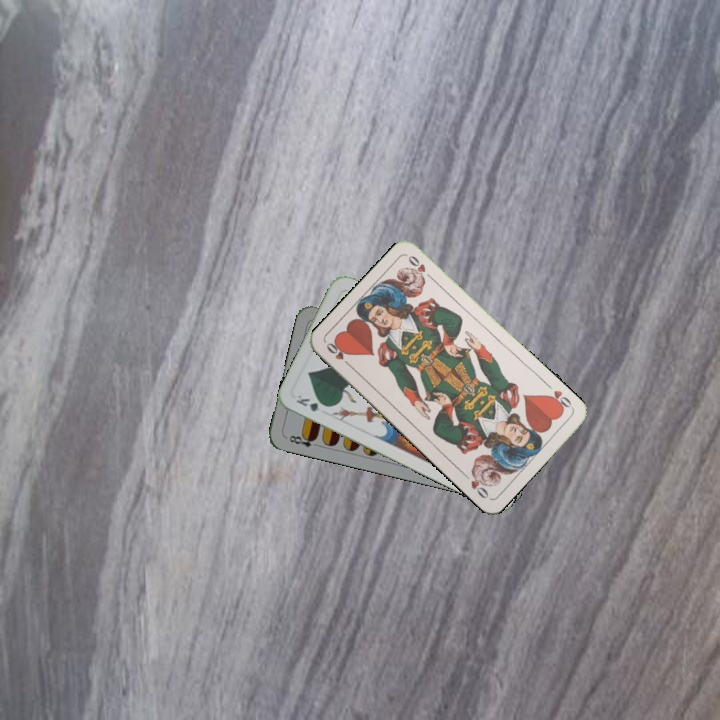E8: (283, 430, 322, 450)
GK: (292, 391, 331, 414)
HO: (322, 338, 355, 370), (542, 386, 576, 414)
